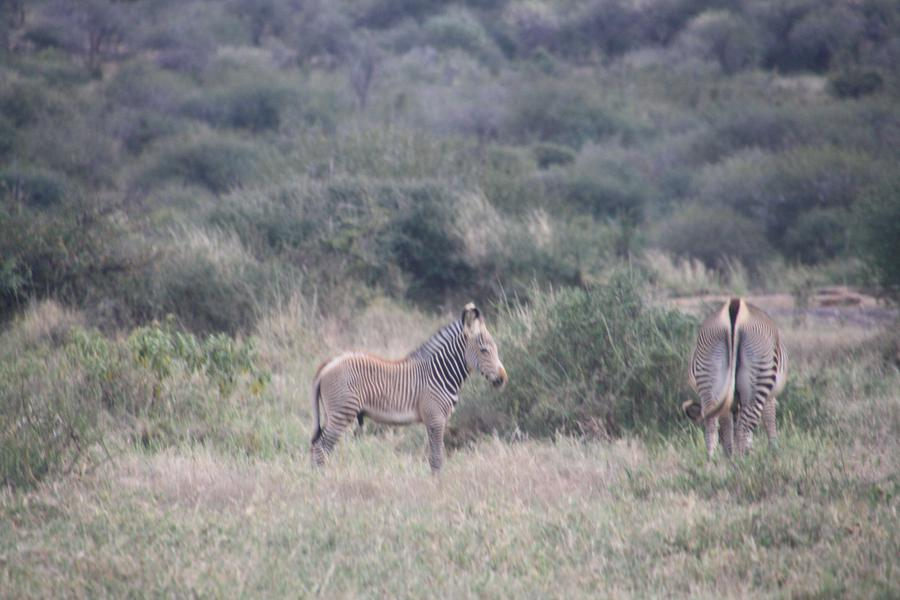zebra_grevys: (313, 347, 452, 416)
